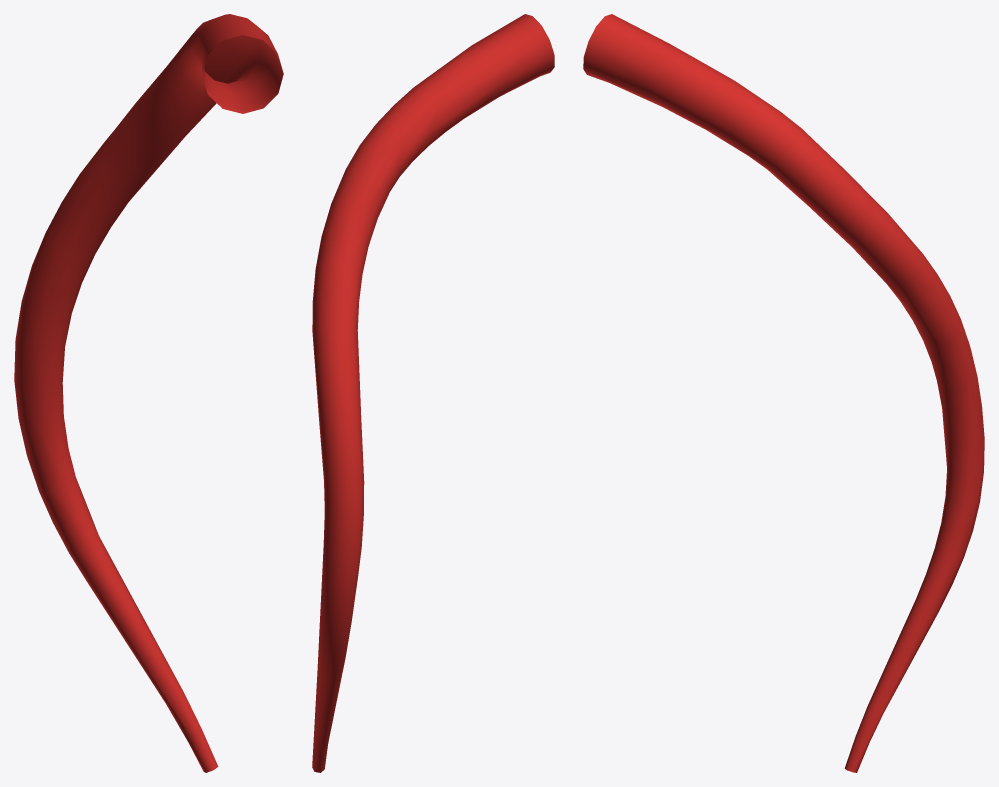
The model's file is circulatorio-branch-to-angular-gyrus-l.glb.
3 renders of one model, left to right at view 1: azimuth 30°, elevation 25°; view 2: azimuth 150°, elevation 25°; view 3: azimuth 270°, elevation 25°, orthographic. The views are drawn at different scales.
Visible parts, largest first — view 1: Branch to angular gyrus.l; view 2: Branch to angular gyrus.l; view 3: Branch to angular gyrus.l.
Boxes of the visible parts, x1,y1,x2,y2 form: Branch to angular gyrus.l: (14,14,283,772); Branch to angular gyrus.l: (312,14,554,772); Branch to angular gyrus.l: (583,14,984,772).
Bounding box in the file's own units: 0.00228 × 0.0119 × 0.0061.
